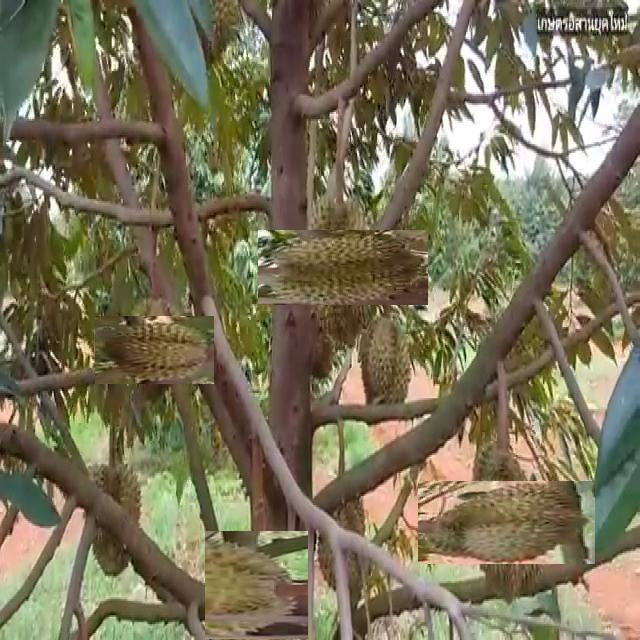durian: (442, 457, 572, 588), (282, 206, 404, 328), (203, 533, 310, 639), (107, 303, 201, 397), (80, 450, 146, 581), (312, 471, 368, 602), (355, 306, 413, 431)
